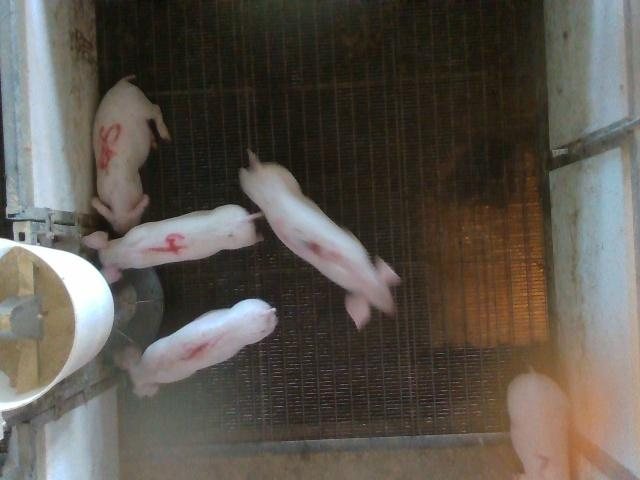pig-1: (115, 299, 278, 397)
pig-3: (239, 151, 400, 328)
pig-4: (82, 205, 261, 283)
pig-5: (91, 75, 170, 234)
